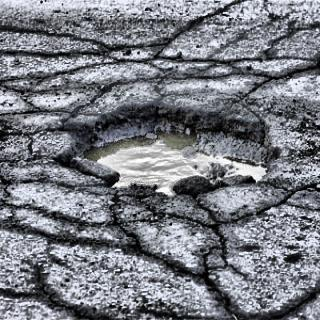alligator-crack: (6, 195, 319, 320), (2, 13, 317, 99)
pothole: (56, 98, 283, 202)
